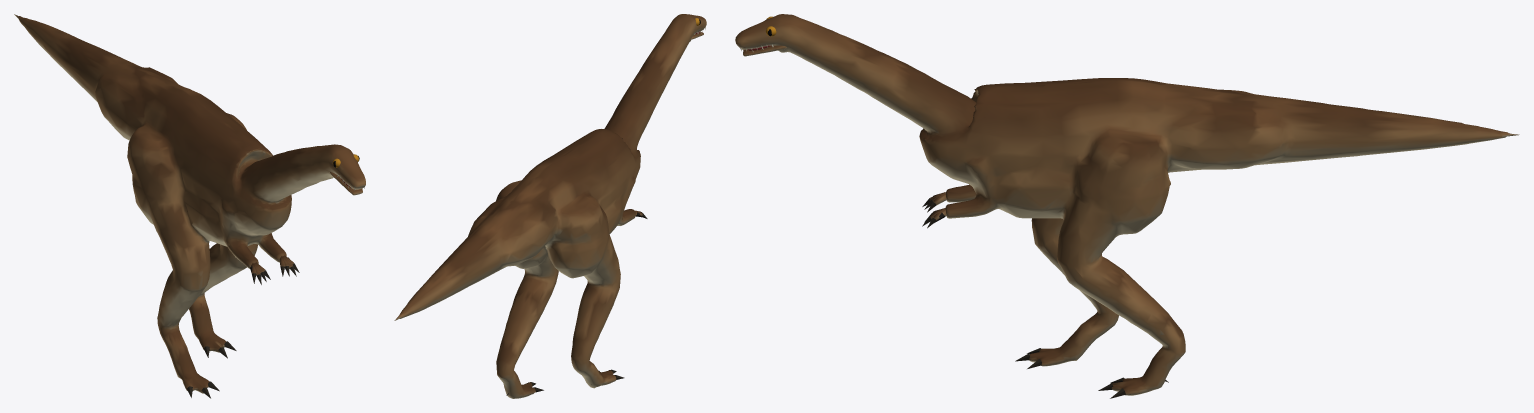
File: Massospondylus.fbx
3 views of the same model, side by side, from view 1: azimuth 30°, elevation 25°; view 2: azimuth 150°, elevation 25°; view 3: azimuth 270°, elevation 25° (orthographic). The views are drawn at different scales.
Visible parts, largest first — view 1: Massospondylus; view 2: Massospondylus; view 3: Massospondylus.
Boxes of the visible parts, x1=… form: Massospondylus: x1=14, y1=14, x2=365, y2=398; Massospondylus: x1=394, y1=14, x2=706, y2=398; Massospondylus: x1=735, y1=14, x2=1519, y2=398.
Size of the model in its own units: 0.5472 by 1.49 by 2.94.
